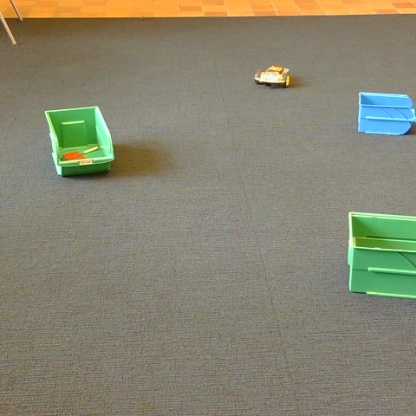robot: (254, 65, 289, 87)
